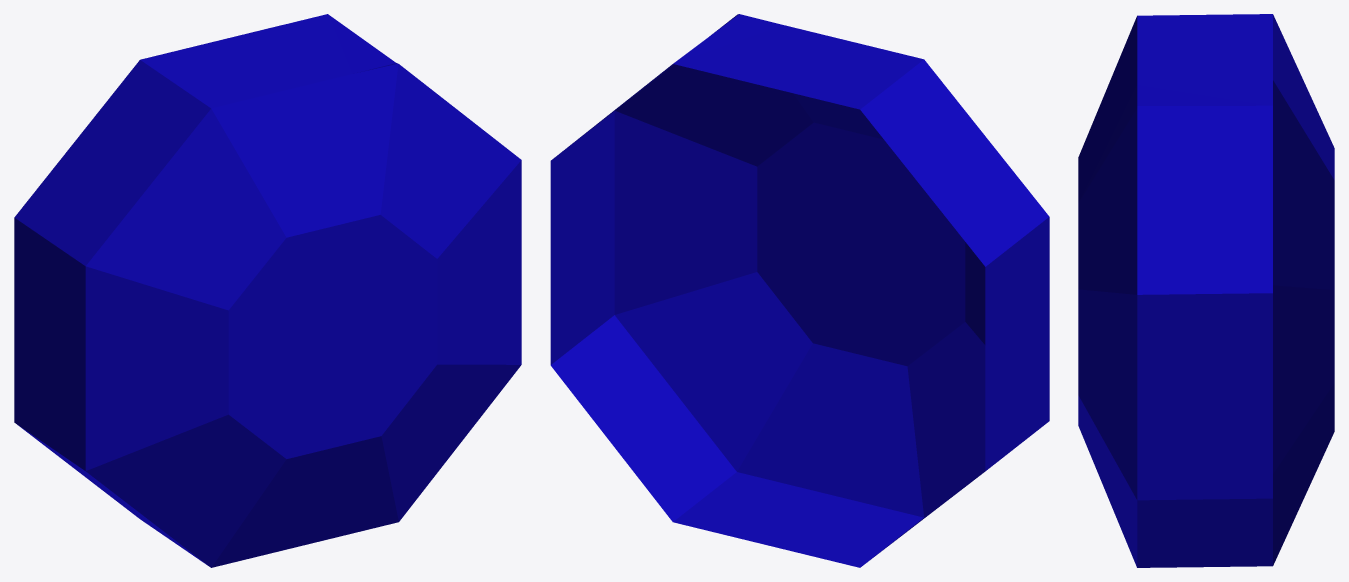
The model's file is gemaRA.FBX.
The picture shows the model from 3 angles, left to right: view 1: azimuth 30°, elevation 25°; view 2: azimuth 150°, elevation 25°; view 3: azimuth 270°, elevation 25°; orthographic projection.
Visible parts, largest first — view 1: Plane003; view 2: Plane003; view 3: Plane003.
Boxes of the visible parts, x1,y1,x2,y2 form: Plane003: (14,14,521,567); Plane003: (550,14,1049,567); Plane003: (1078,14,1334,567).
Size of the model in its own units: 178 by 178 by 89.68.
